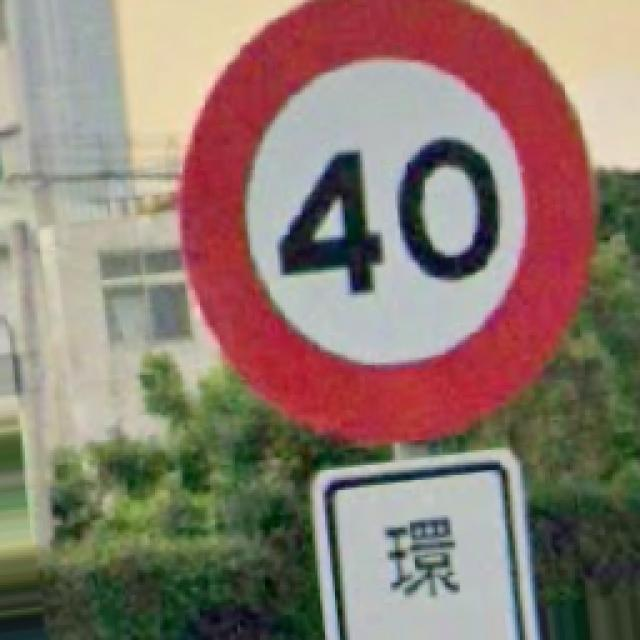Speed Limit -40-: (182, 0, 590, 440)
